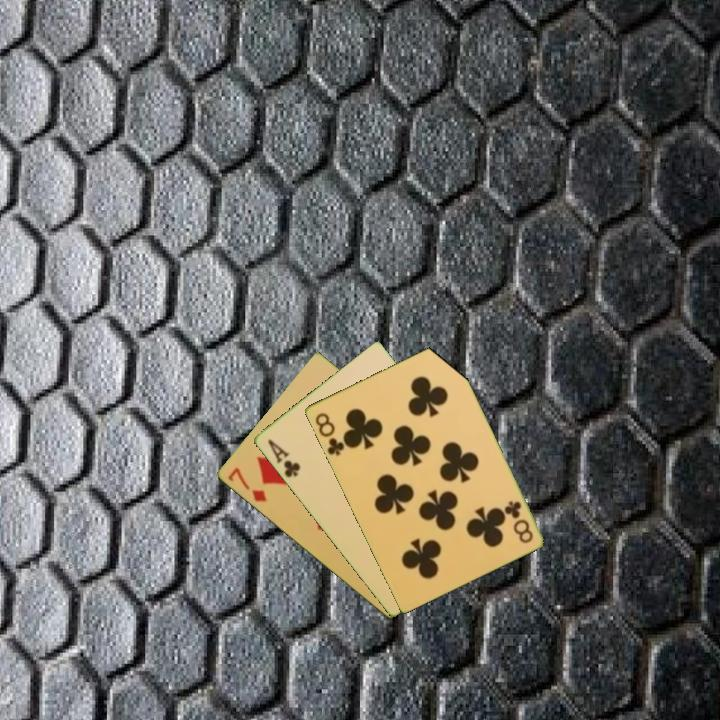7d: (224, 464, 269, 505)
8c: (311, 409, 349, 459), (500, 497, 536, 546)
Ac: (264, 436, 303, 480)
